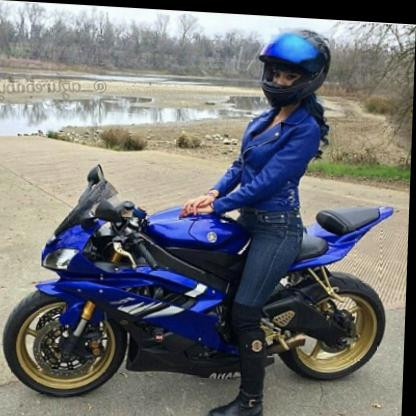With Helmet: (255, 21, 339, 108)
